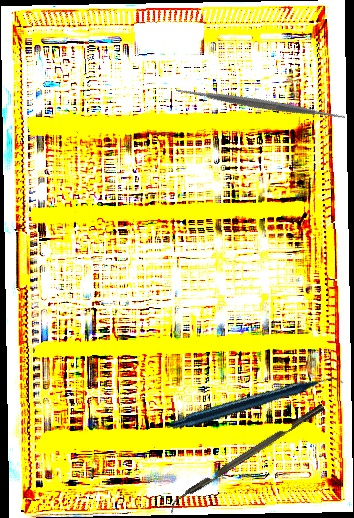Chopper: (164, 403, 330, 516)
Handpiece: (169, 329, 346, 480)
Spatula Surgical: (170, 12, 351, 195)
